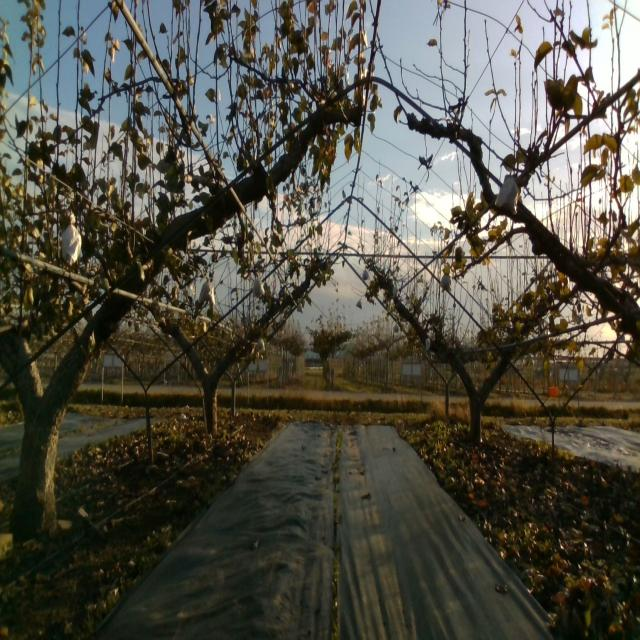pearbags: (61, 212, 83, 268), (494, 175, 519, 212), (198, 275, 216, 306), (252, 275, 265, 298), (439, 272, 452, 292)
